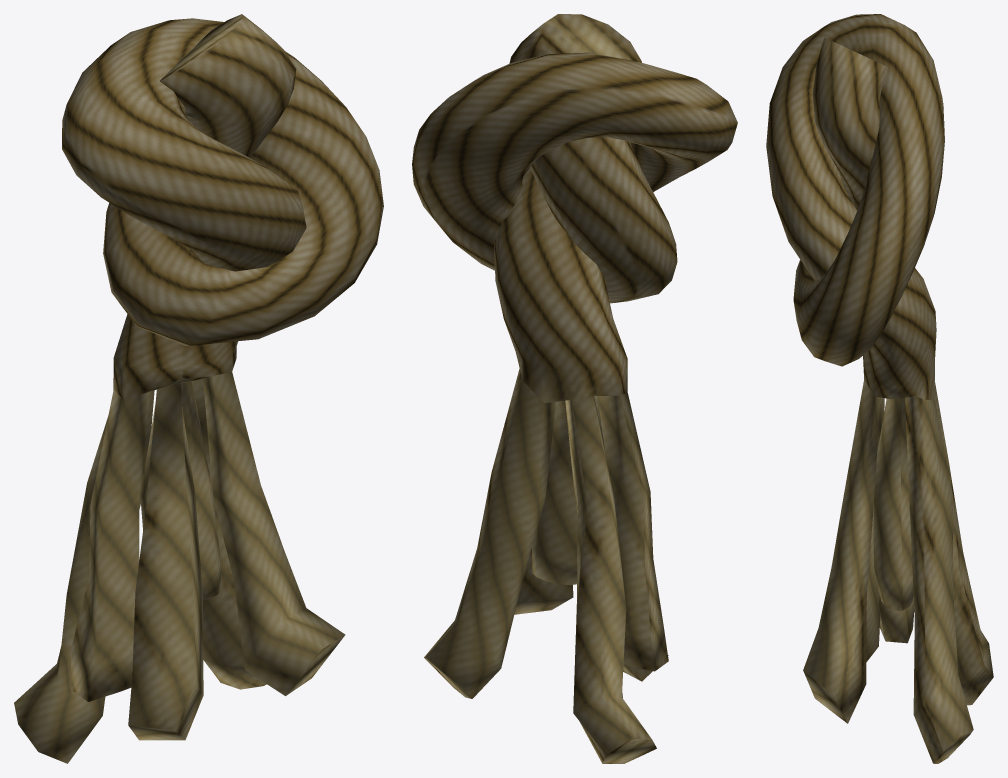
The picture shows the model from 3 angles, left to right: view 1: azimuth 30°, elevation 25°; view 2: azimuth 150°, elevation 25°; view 3: azimuth 270°, elevation 25°; orthographic projection. The views are drawn at different scales.
Visible parts, largest first — view 1: Line103_Material_0_0; view 2: Line103_Material_0_0; view 3: Line103_Material_0_0.
Boxes of the visible parts, x1,y1,x2,y2 form: Line103_Material_0_0: [14, 14, 383, 763]; Line103_Material_0_0: [412, 14, 737, 763]; Line103_Material_0_0: [766, 14, 993, 763].
Bounding box in the file's own units: 0.0738 × 0.1626 × 0.0468.
Materials: 1 (1 with a texture image).
